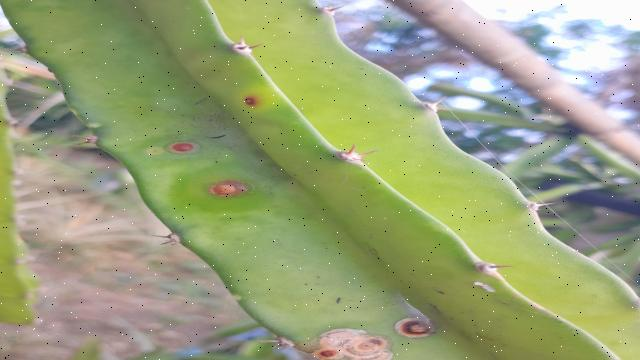stemcanker: (302, 328, 398, 360), (199, 174, 253, 201), (394, 316, 433, 339), (232, 92, 269, 115), (164, 139, 200, 158)
